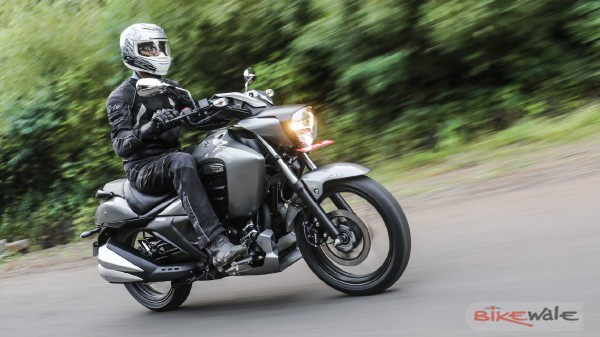helmet: (121, 29, 176, 76)
